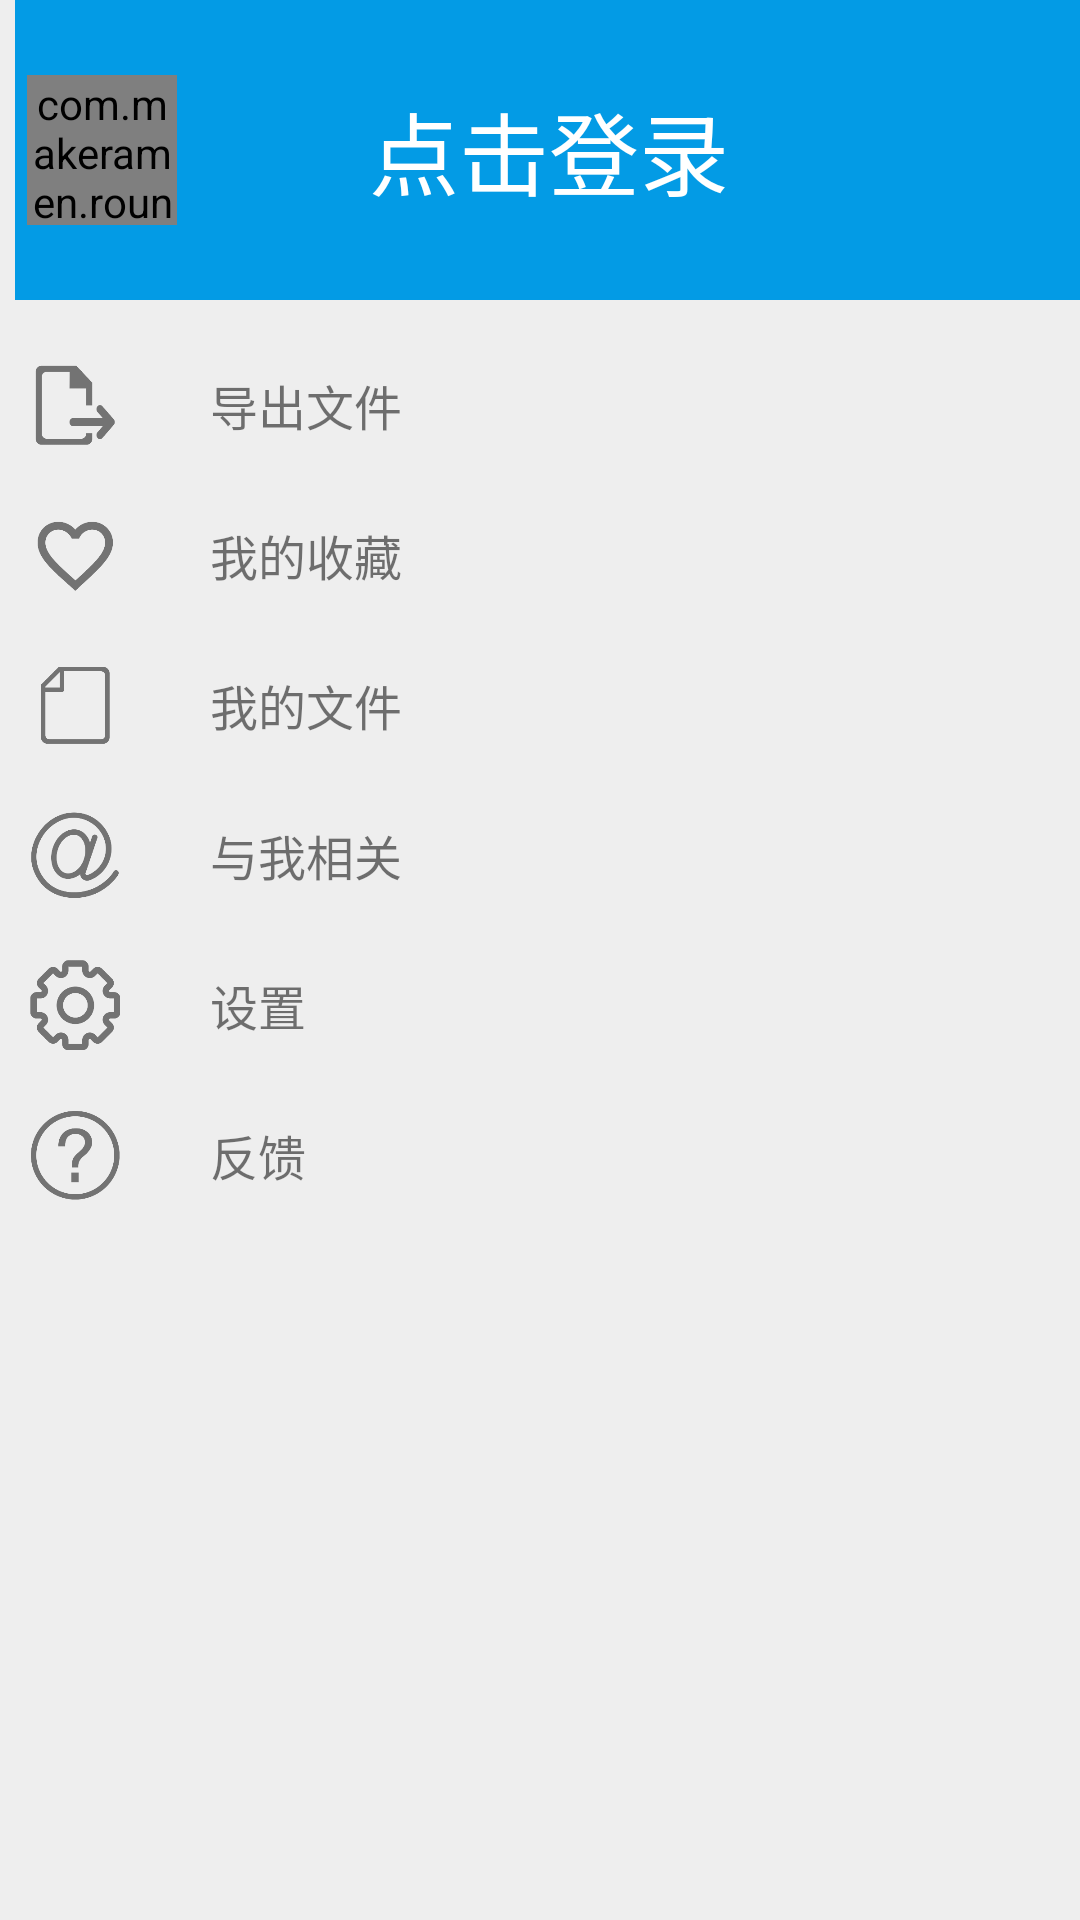

Named icons in this screenshot (1080 × 1920) and their bounding boxes, (x1, y1, x2, y2):
slide aboutme: (31, 812, 119, 898)
slide favor: (38, 522, 113, 591)
slide file: (41, 667, 110, 744)
slide settings: (30, 960, 120, 1050)
